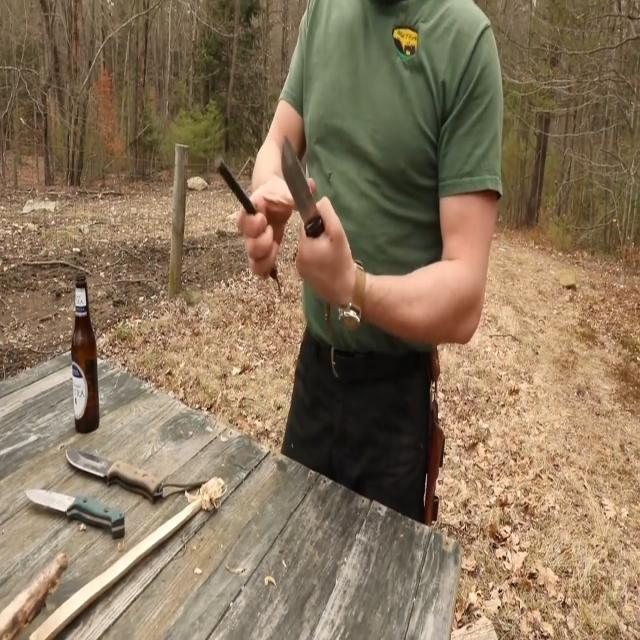knife: (66, 440, 168, 503), (23, 482, 129, 540), (279, 135, 323, 240)
